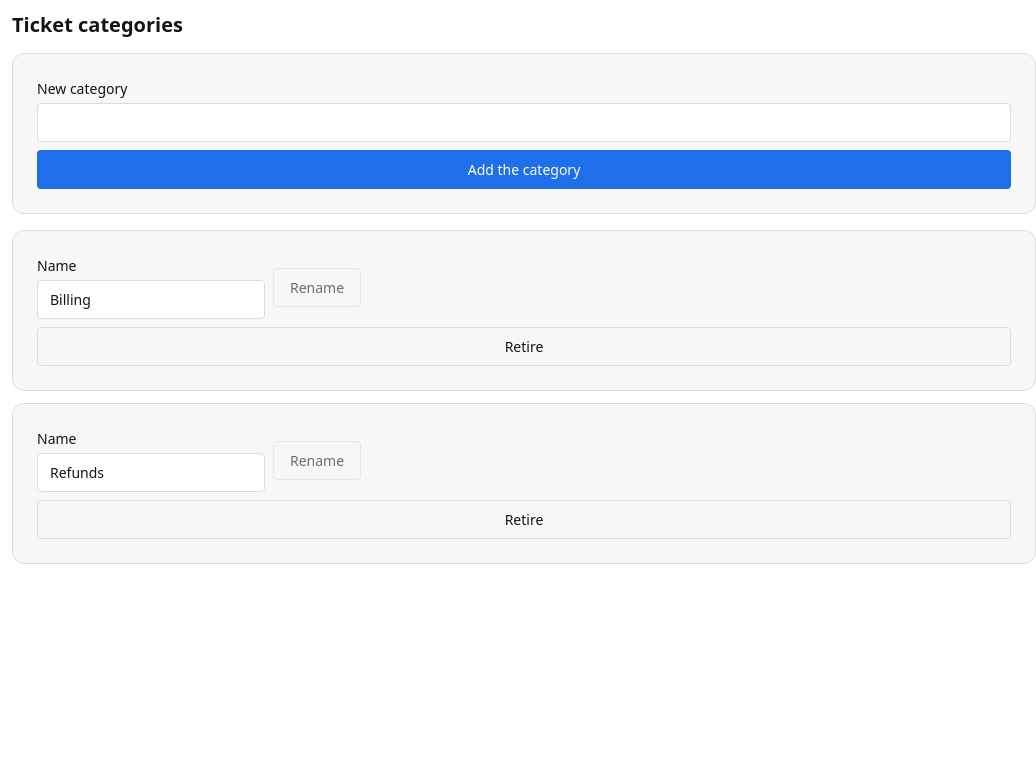
retiring asks first, and does nothing until it is answered
The image size is (1036, 780).
expect the 1st field showing "Billing" is shown: met, box x1=37 y1=280 x2=265 y2=319
Click the 1st button "Retire": coordinates (524, 346) x1=37 y1=327 x2=1011 y2=366
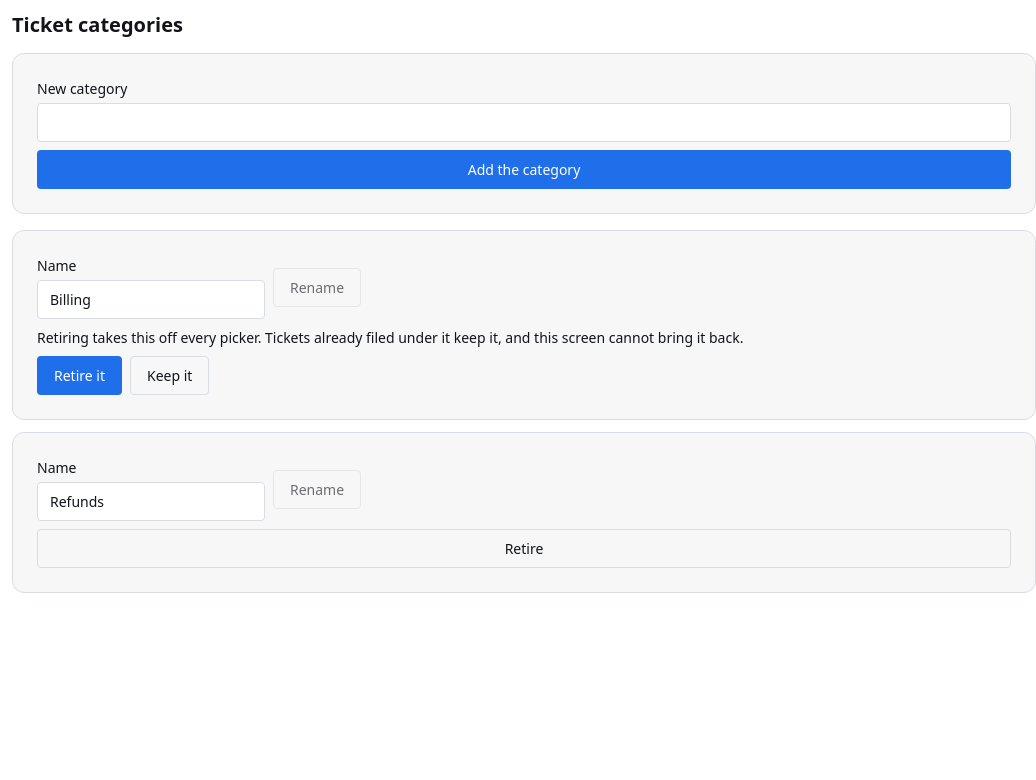
expect the text "Retiring takes this off every picker. Tickets already filed under it keep it, and this screen cannot bring it back." is shown: met, box x1=37 y1=328 x2=743 y2=347
Click the button "Keep it": coordinates (170, 376) x1=130 y1=356 x2=209 y2=395
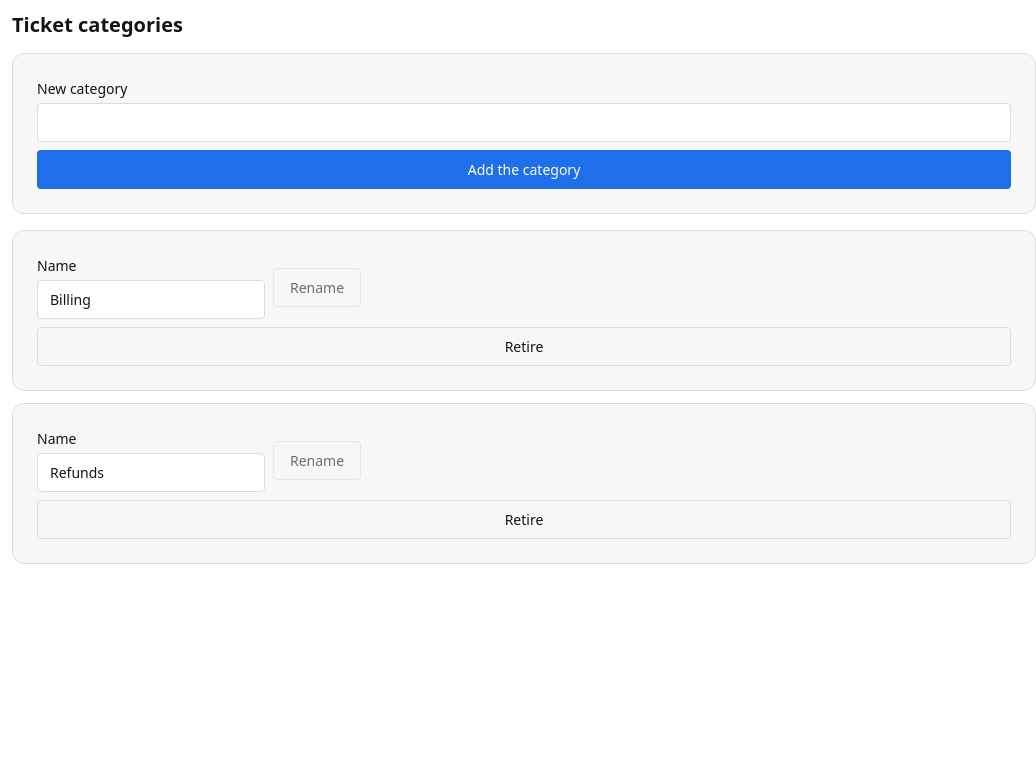
expect the 1st field showing "Billing" is shown: met, box x1=37 y1=280 x2=265 y2=319
expect the text "Retiring takes this off every picker. Tickets already filed under it keep it, and this screen cannot bring it back." is gone: met
